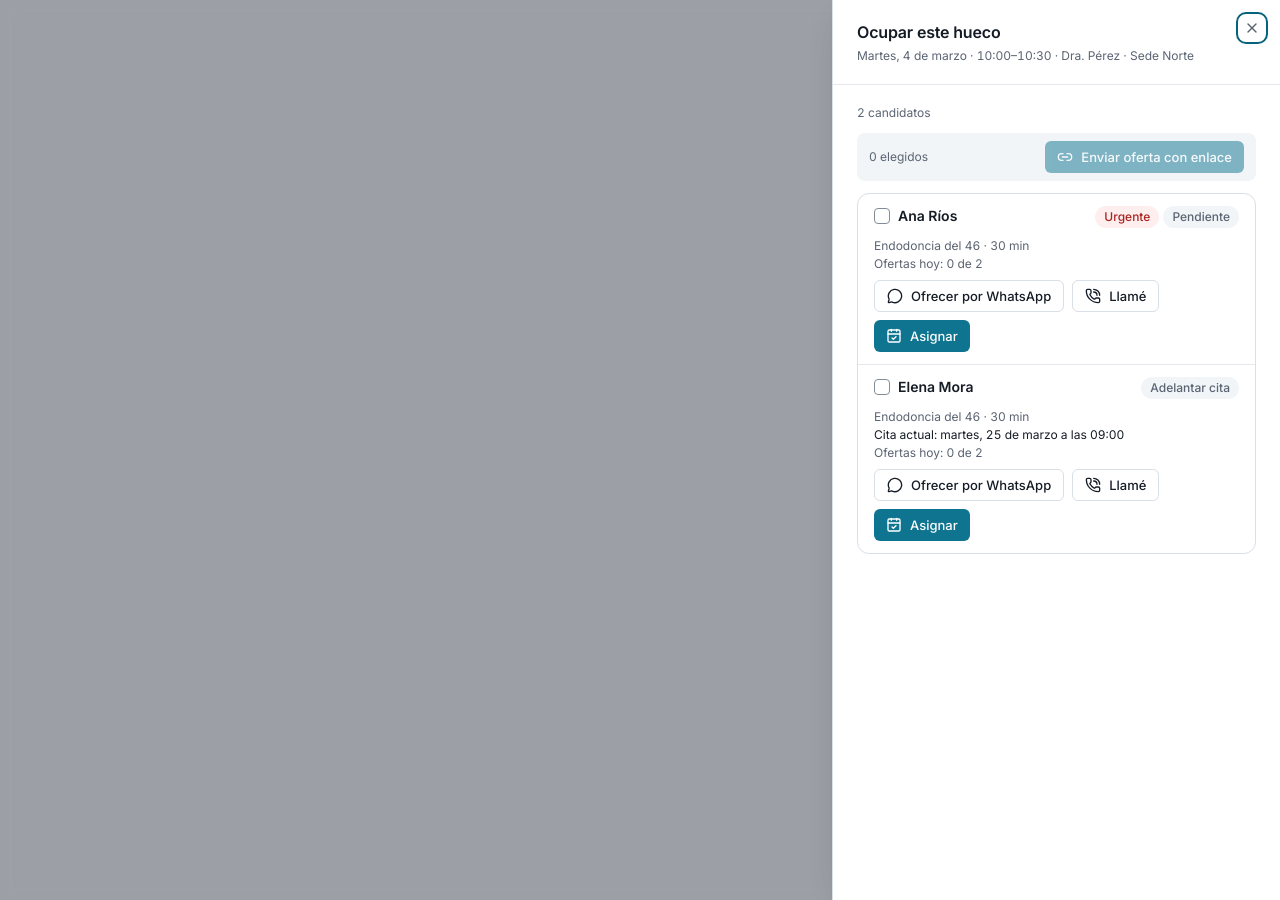
Test: «Ocupar este hueco» (DX-210) › si otro ocupó el hueco: 409 en español, el candidato sale y se recarga
Click the button with aria-label "Asignar el hueco a Ana Ríos" at (922, 336), box [874,320,970,352]
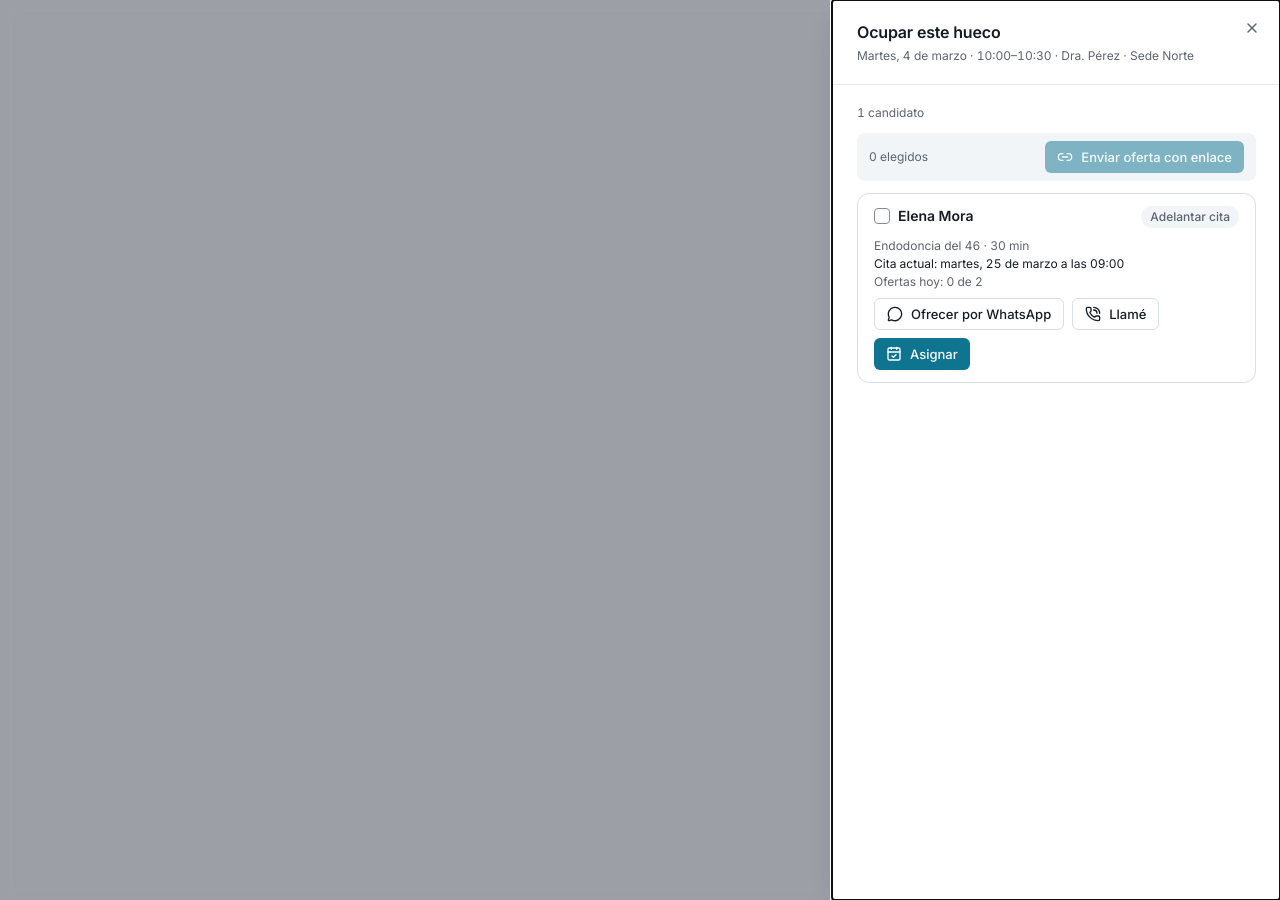
Expected: the text "Elena Mora" is shown, [898,206,974,226]
Now the text "Ana Ríos" is gone
